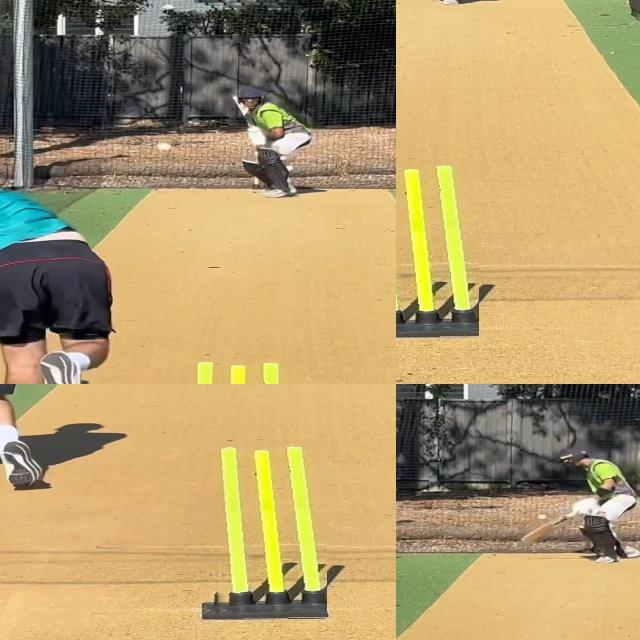Cricket ball: (154, 140, 174, 153), (536, 512, 548, 521)
Stumps: (203, 444, 327, 620), (396, 164, 479, 341)
